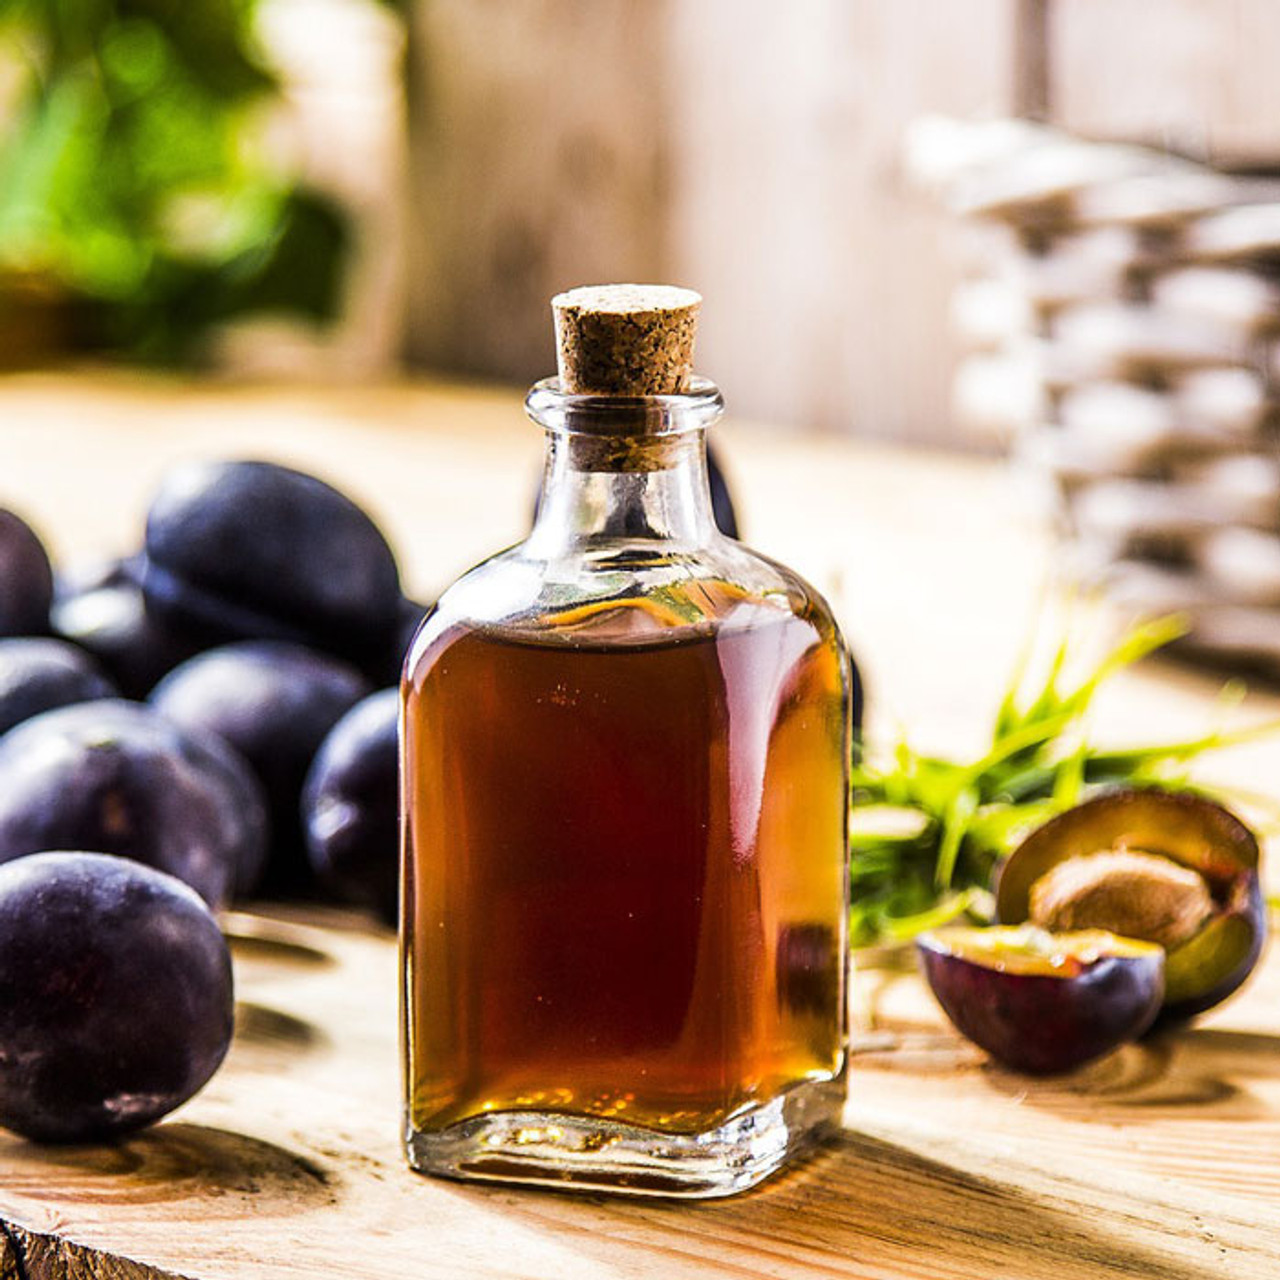glass_bottle: (377, 264, 893, 1221)
